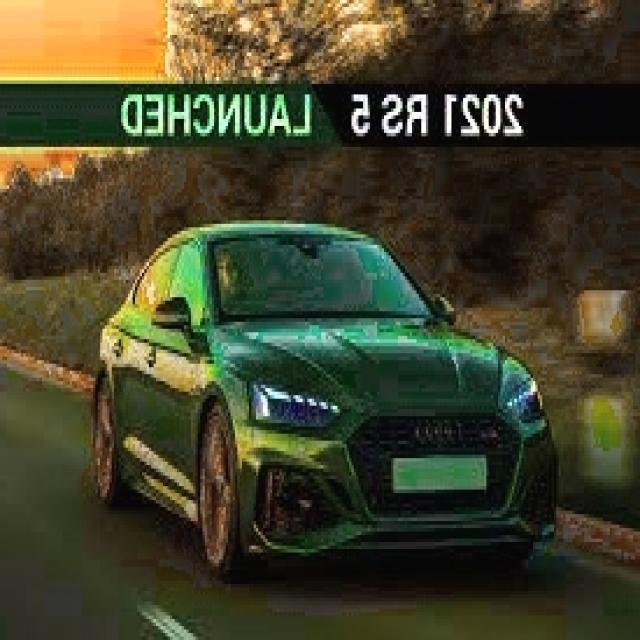green: (94, 215, 555, 575)
